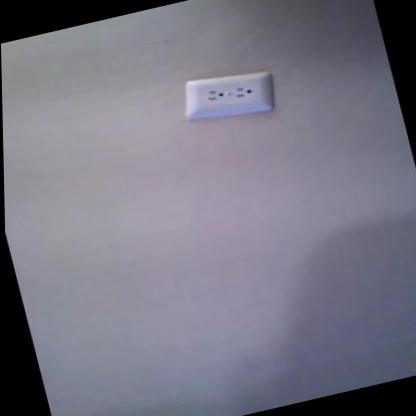OUTLET: (177, 61, 277, 130)
